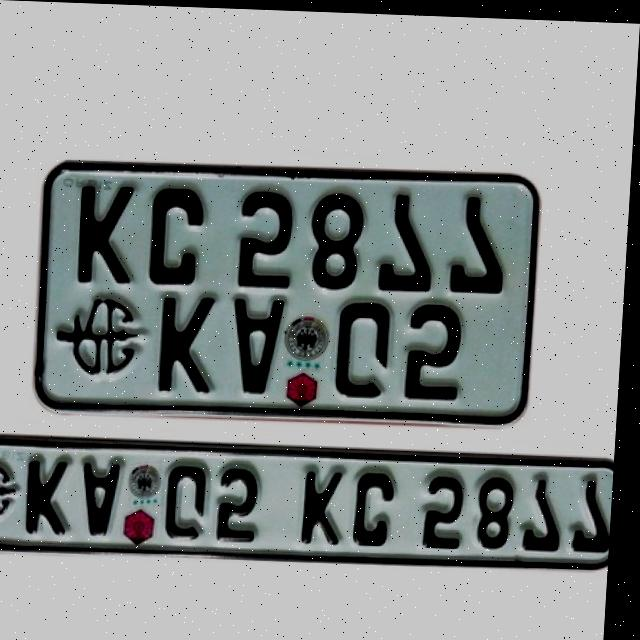plate: (35, 155, 543, 424), (0, 435, 620, 573)
